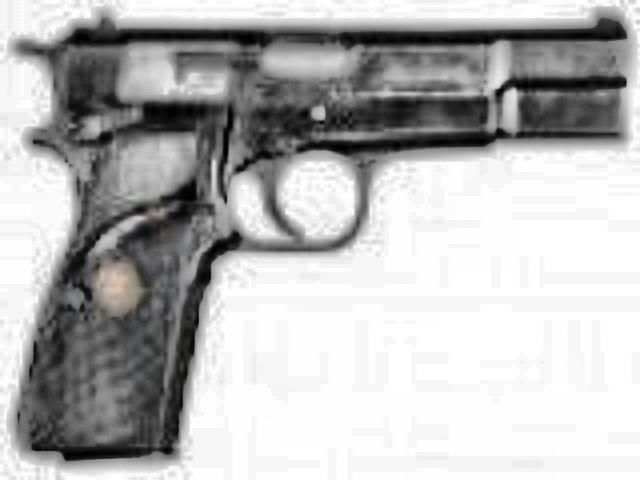pistol: (0, 8, 628, 444)
